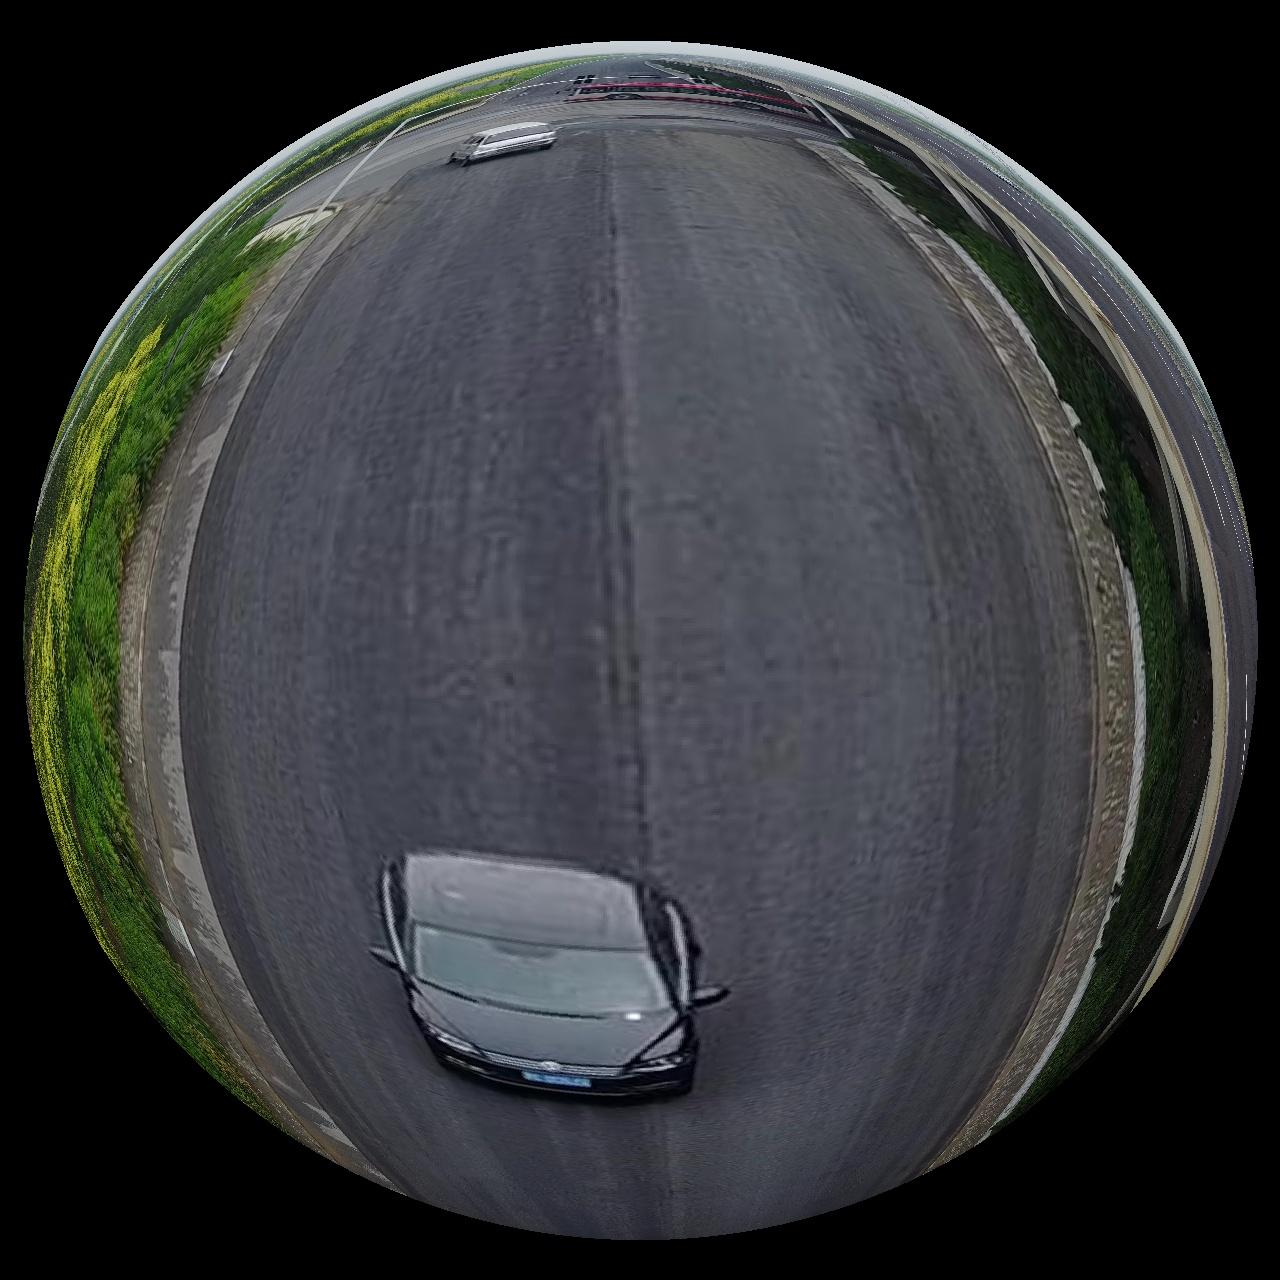cars: (372, 851, 729, 1099), (567, 80, 821, 122), (449, 120, 557, 164)
trees: (846, 138, 1214, 1092), (23, 220, 295, 1103)
